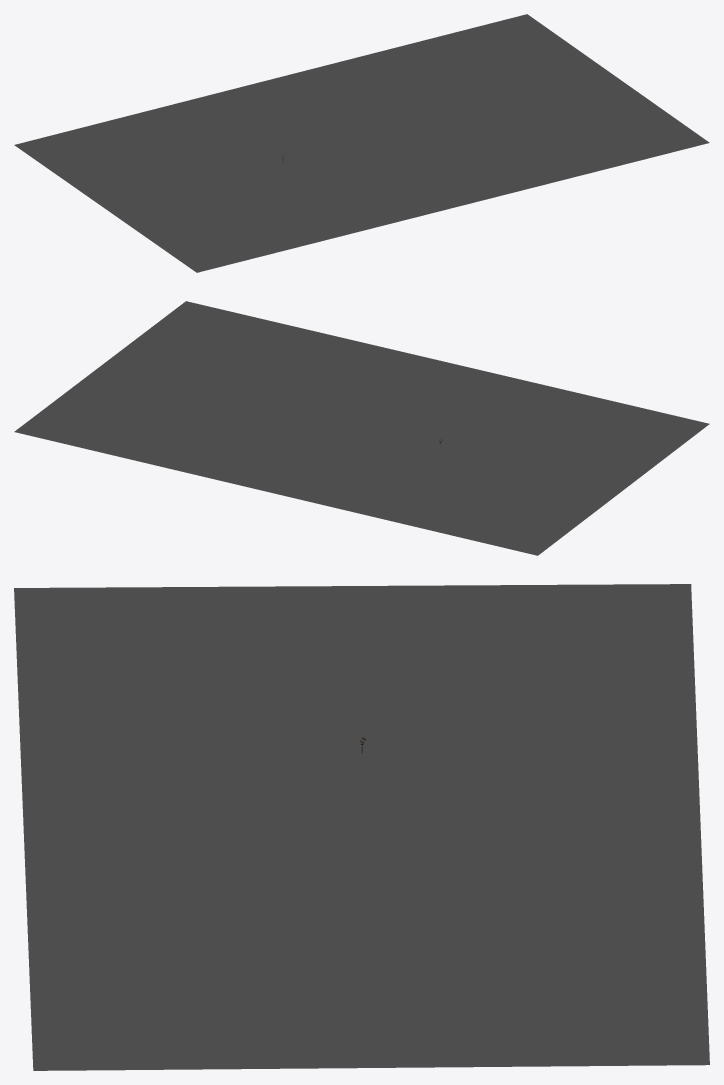
File: celestial-clockwork-by-rey-alfonso.glb
3 views of the same model, one above another, from view 1: azimuth 30°, elevation 25°; view 2: azimuth 150°, elevation 25°; view 3: azimuth 270°, elevation 25° (orthographic). The views are drawn at different scales.
Visible parts, largest first — view 1: LOD0; view 2: LOD0; view 3: LOD0.
Part boxes in pixels (bbox=[...]): LOD0: bbox=[14, 14, 709, 272]; LOD0: bbox=[14, 301, 709, 555]; LOD0: bbox=[14, 584, 709, 1070].
Size of what is drawn, in the model's own units: 166 by 2.73 by 100.
Materials: 2 (2 with a texture image).
